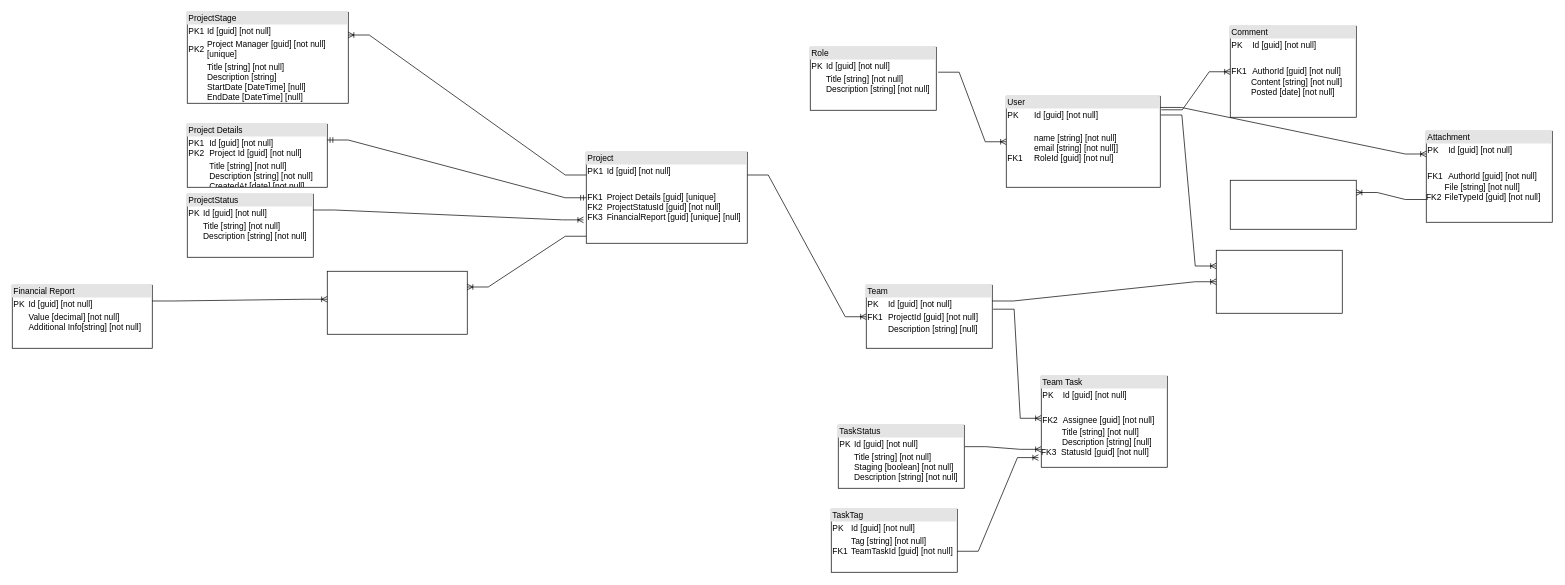
This 1565x585 diagram has some shape labels left out. Here are the shapes that lost their labels. From the top down, the centre of each, then its label:
At point 1293,204: "FileType PK Id [guid] [not null] Title [string] [not null]".
At point 1279,281: "UserTeams PK1 UserId [guid] [not null] PK2 TeamId [guid] [not null]".
At point 397,302: "Project Reports PK1 ProjectId [guid] [not null] PK2 ReportId [guid] [not null]".
